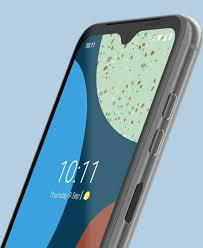Smartphone: (2, 8, 200, 248)
